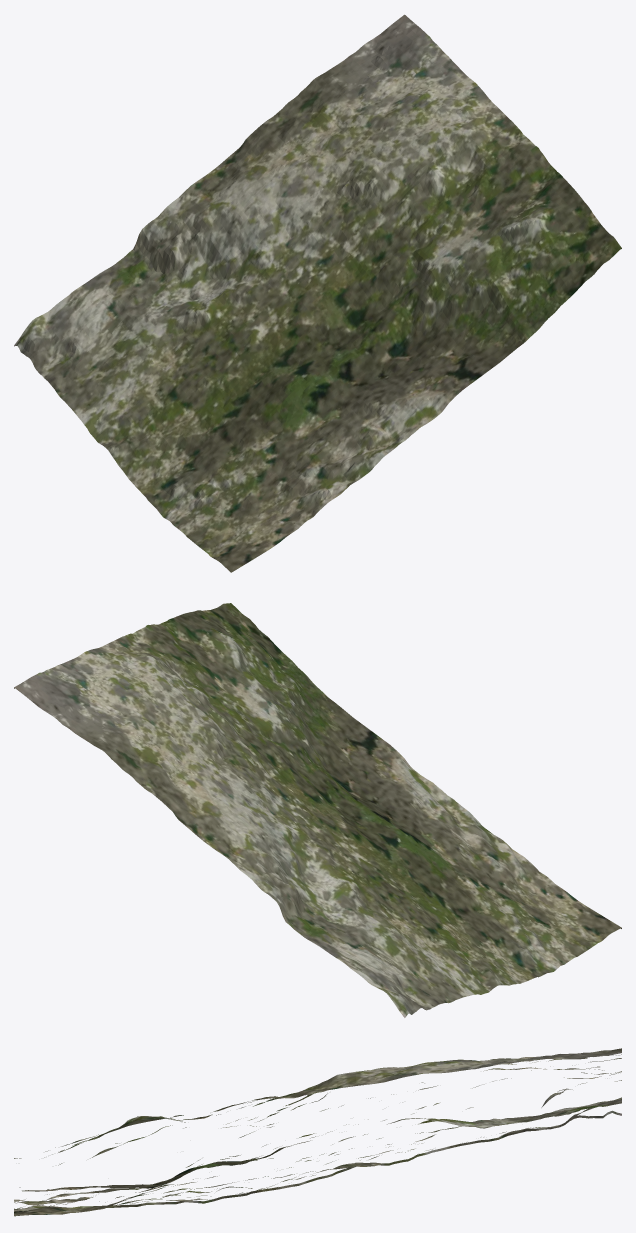
The picture shows the model from 3 angles, top to bottom: view 1: azimuth 30°, elevation 25°; view 2: azimuth 150°, elevation 25°; view 3: azimuth 270°, elevation 25°; orthographic projection. The views are drawn at different scales.
Bounding box in the file's own units: 250 × 187 × 241.
Materials: 1 (1 with a texture image).
